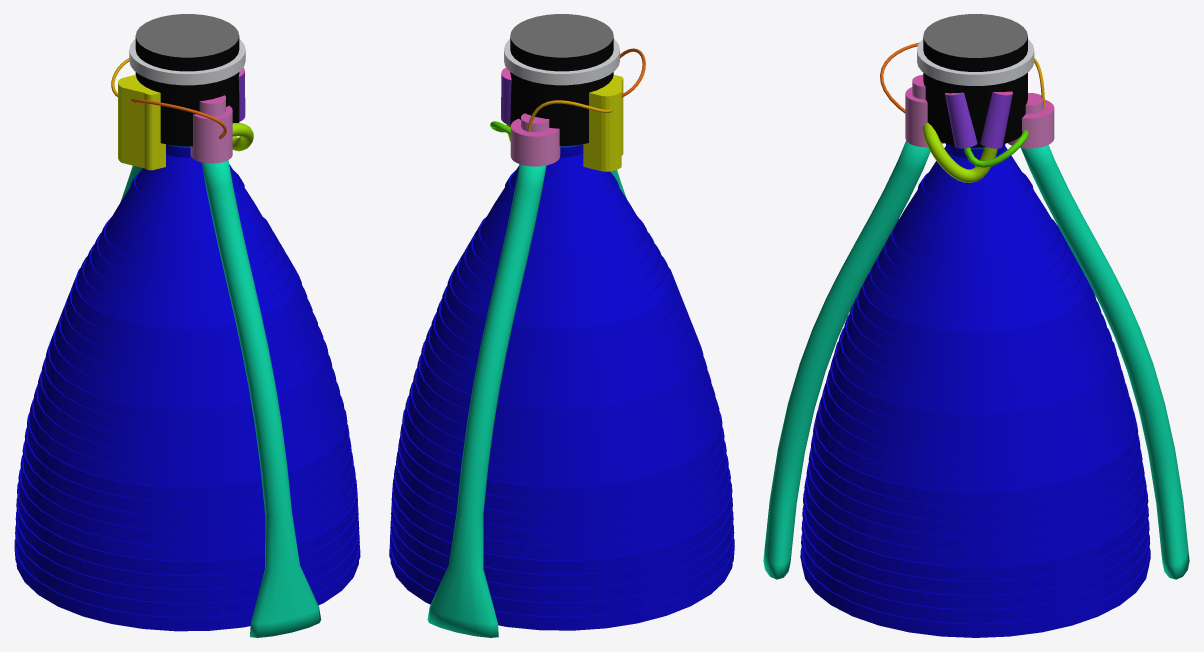
The picture shows the model from 3 angles, left to right: view 1: azimuth 30°, elevation 25°; view 2: azimuth 150°, elevation 25°; view 3: azimuth 270°, elevation 25°; orthographic projection.
Parts seen in each view (by area): view 1: reacteur, base; view 2: reacteur, base; view 3: reacteur, base.
Part boxes in pixels (box(x1,y1,x2,y2)): reacteur: box(14, 58, 360, 637); base: box(129, 14, 245, 146); reacteur: box(389, 48, 734, 637); base: box(504, 14, 619, 145); reacteur: box(763, 42, 1189, 637); base: box(917, 14, 1034, 147).
Size of the model in its own units: 2.06 by 3.42 by 2.5.
